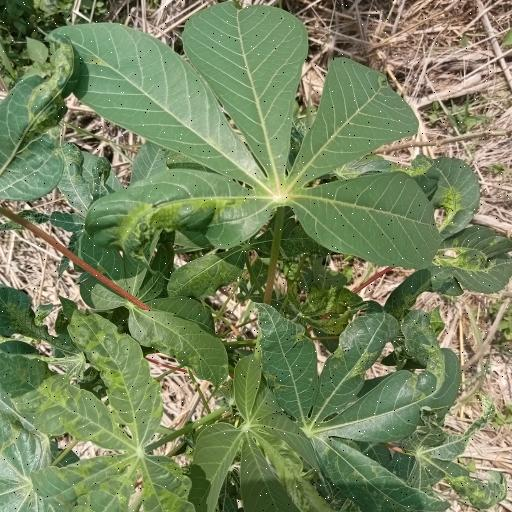Cassava_Mosaic: (76, 10, 449, 276)
